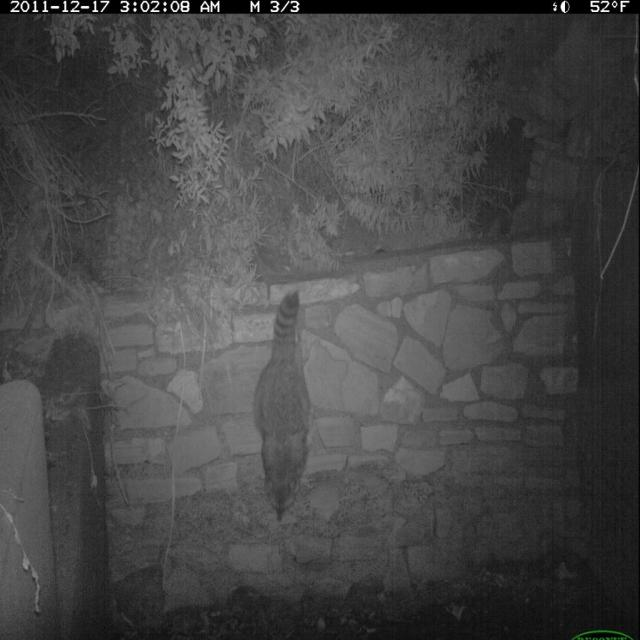raccoon: (250, 287, 327, 540)
